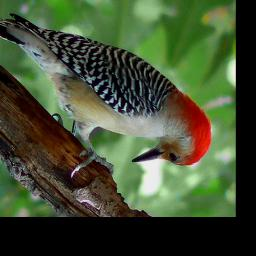Woodpecker: (0, 8, 216, 179)
